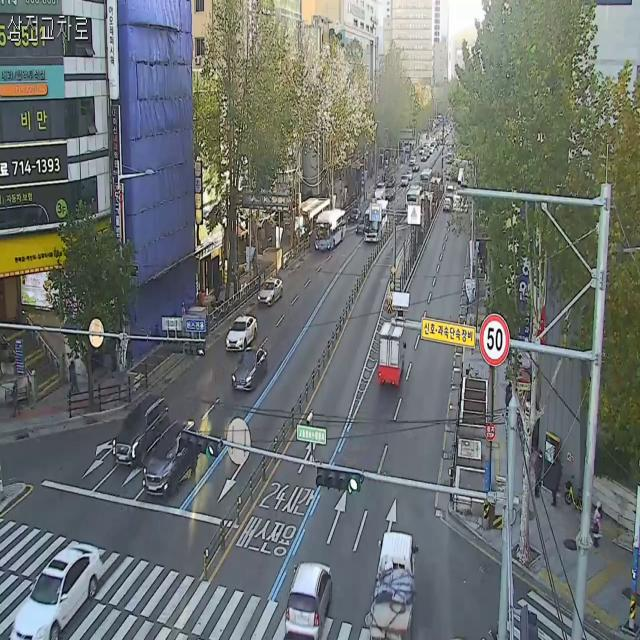motorcycle: (139, 416, 202, 503), (110, 387, 172, 470), (284, 548, 334, 640), (227, 342, 274, 398), (223, 310, 260, 352), (255, 272, 285, 310)
truck: (371, 312, 413, 393)
